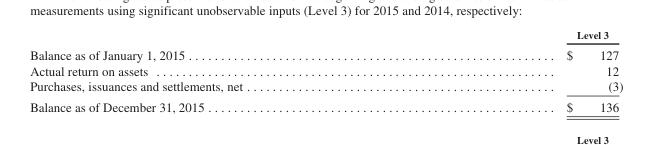table: (29, 28, 622, 113)
table column: (29, 28, 403, 113), (403, 28, 622, 113)
table column header: (29, 28, 622, 44)
table row: (29, 44, 622, 62), (29, 78, 622, 96), (29, 96, 622, 113), (29, 28, 622, 44), (29, 62, 622, 78)
